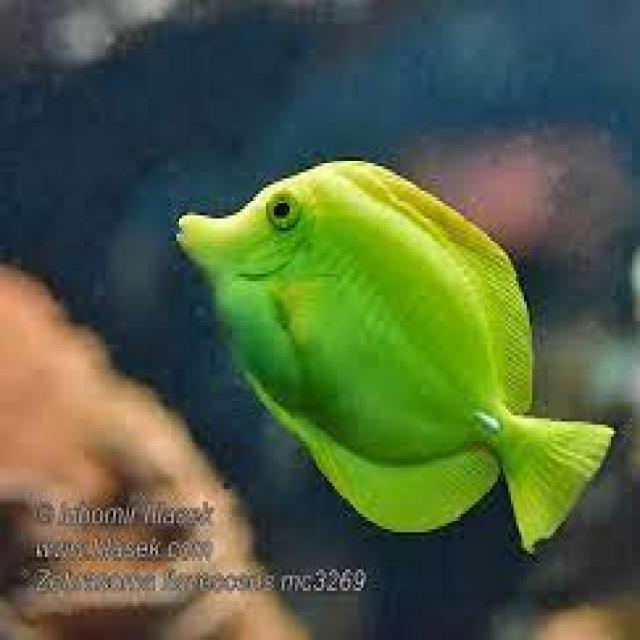TangFish: (172, 155, 618, 561)
